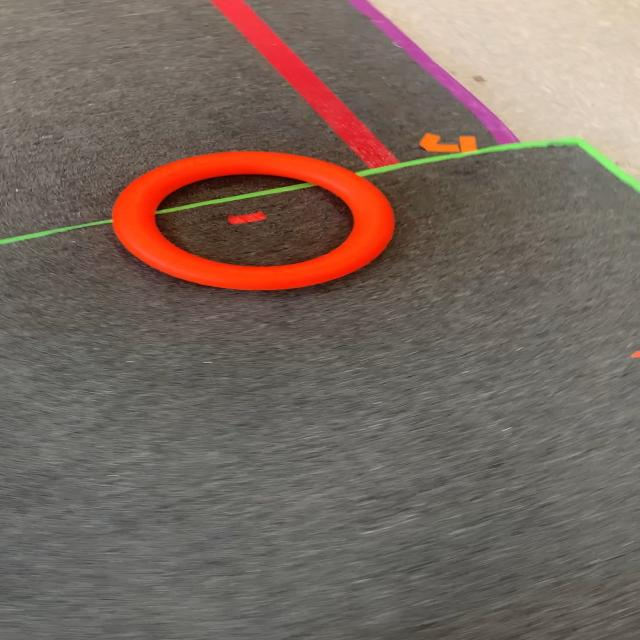notes: (115, 151, 396, 292)
